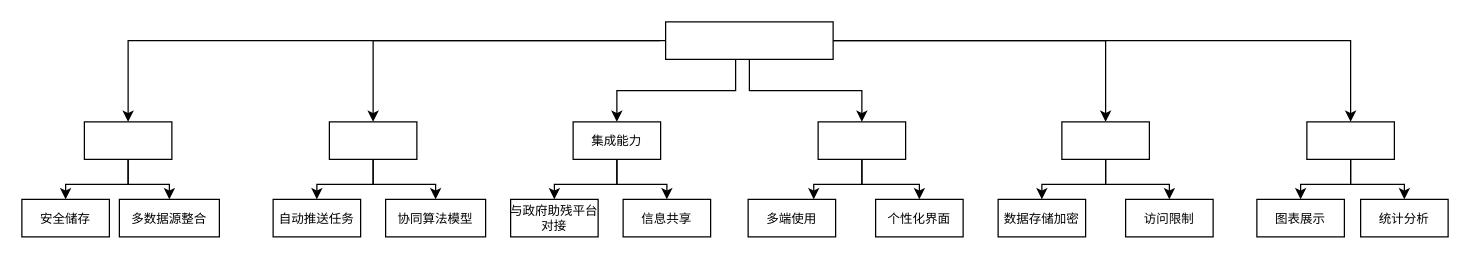
The diagram is 1470 pixels wide and 259 high, and some of its shapes have lost their labels. Here are the shapes that lost their labels. From the top down, the centre of each, then its label:
point 748,40: 友毅联智能互助协作平台
point 127,140: 数据管理
point 372,140: 智能功能
point 861,140: 用户体验
point 1105,140: 安全机制
point 1350,140: 数据可视画
